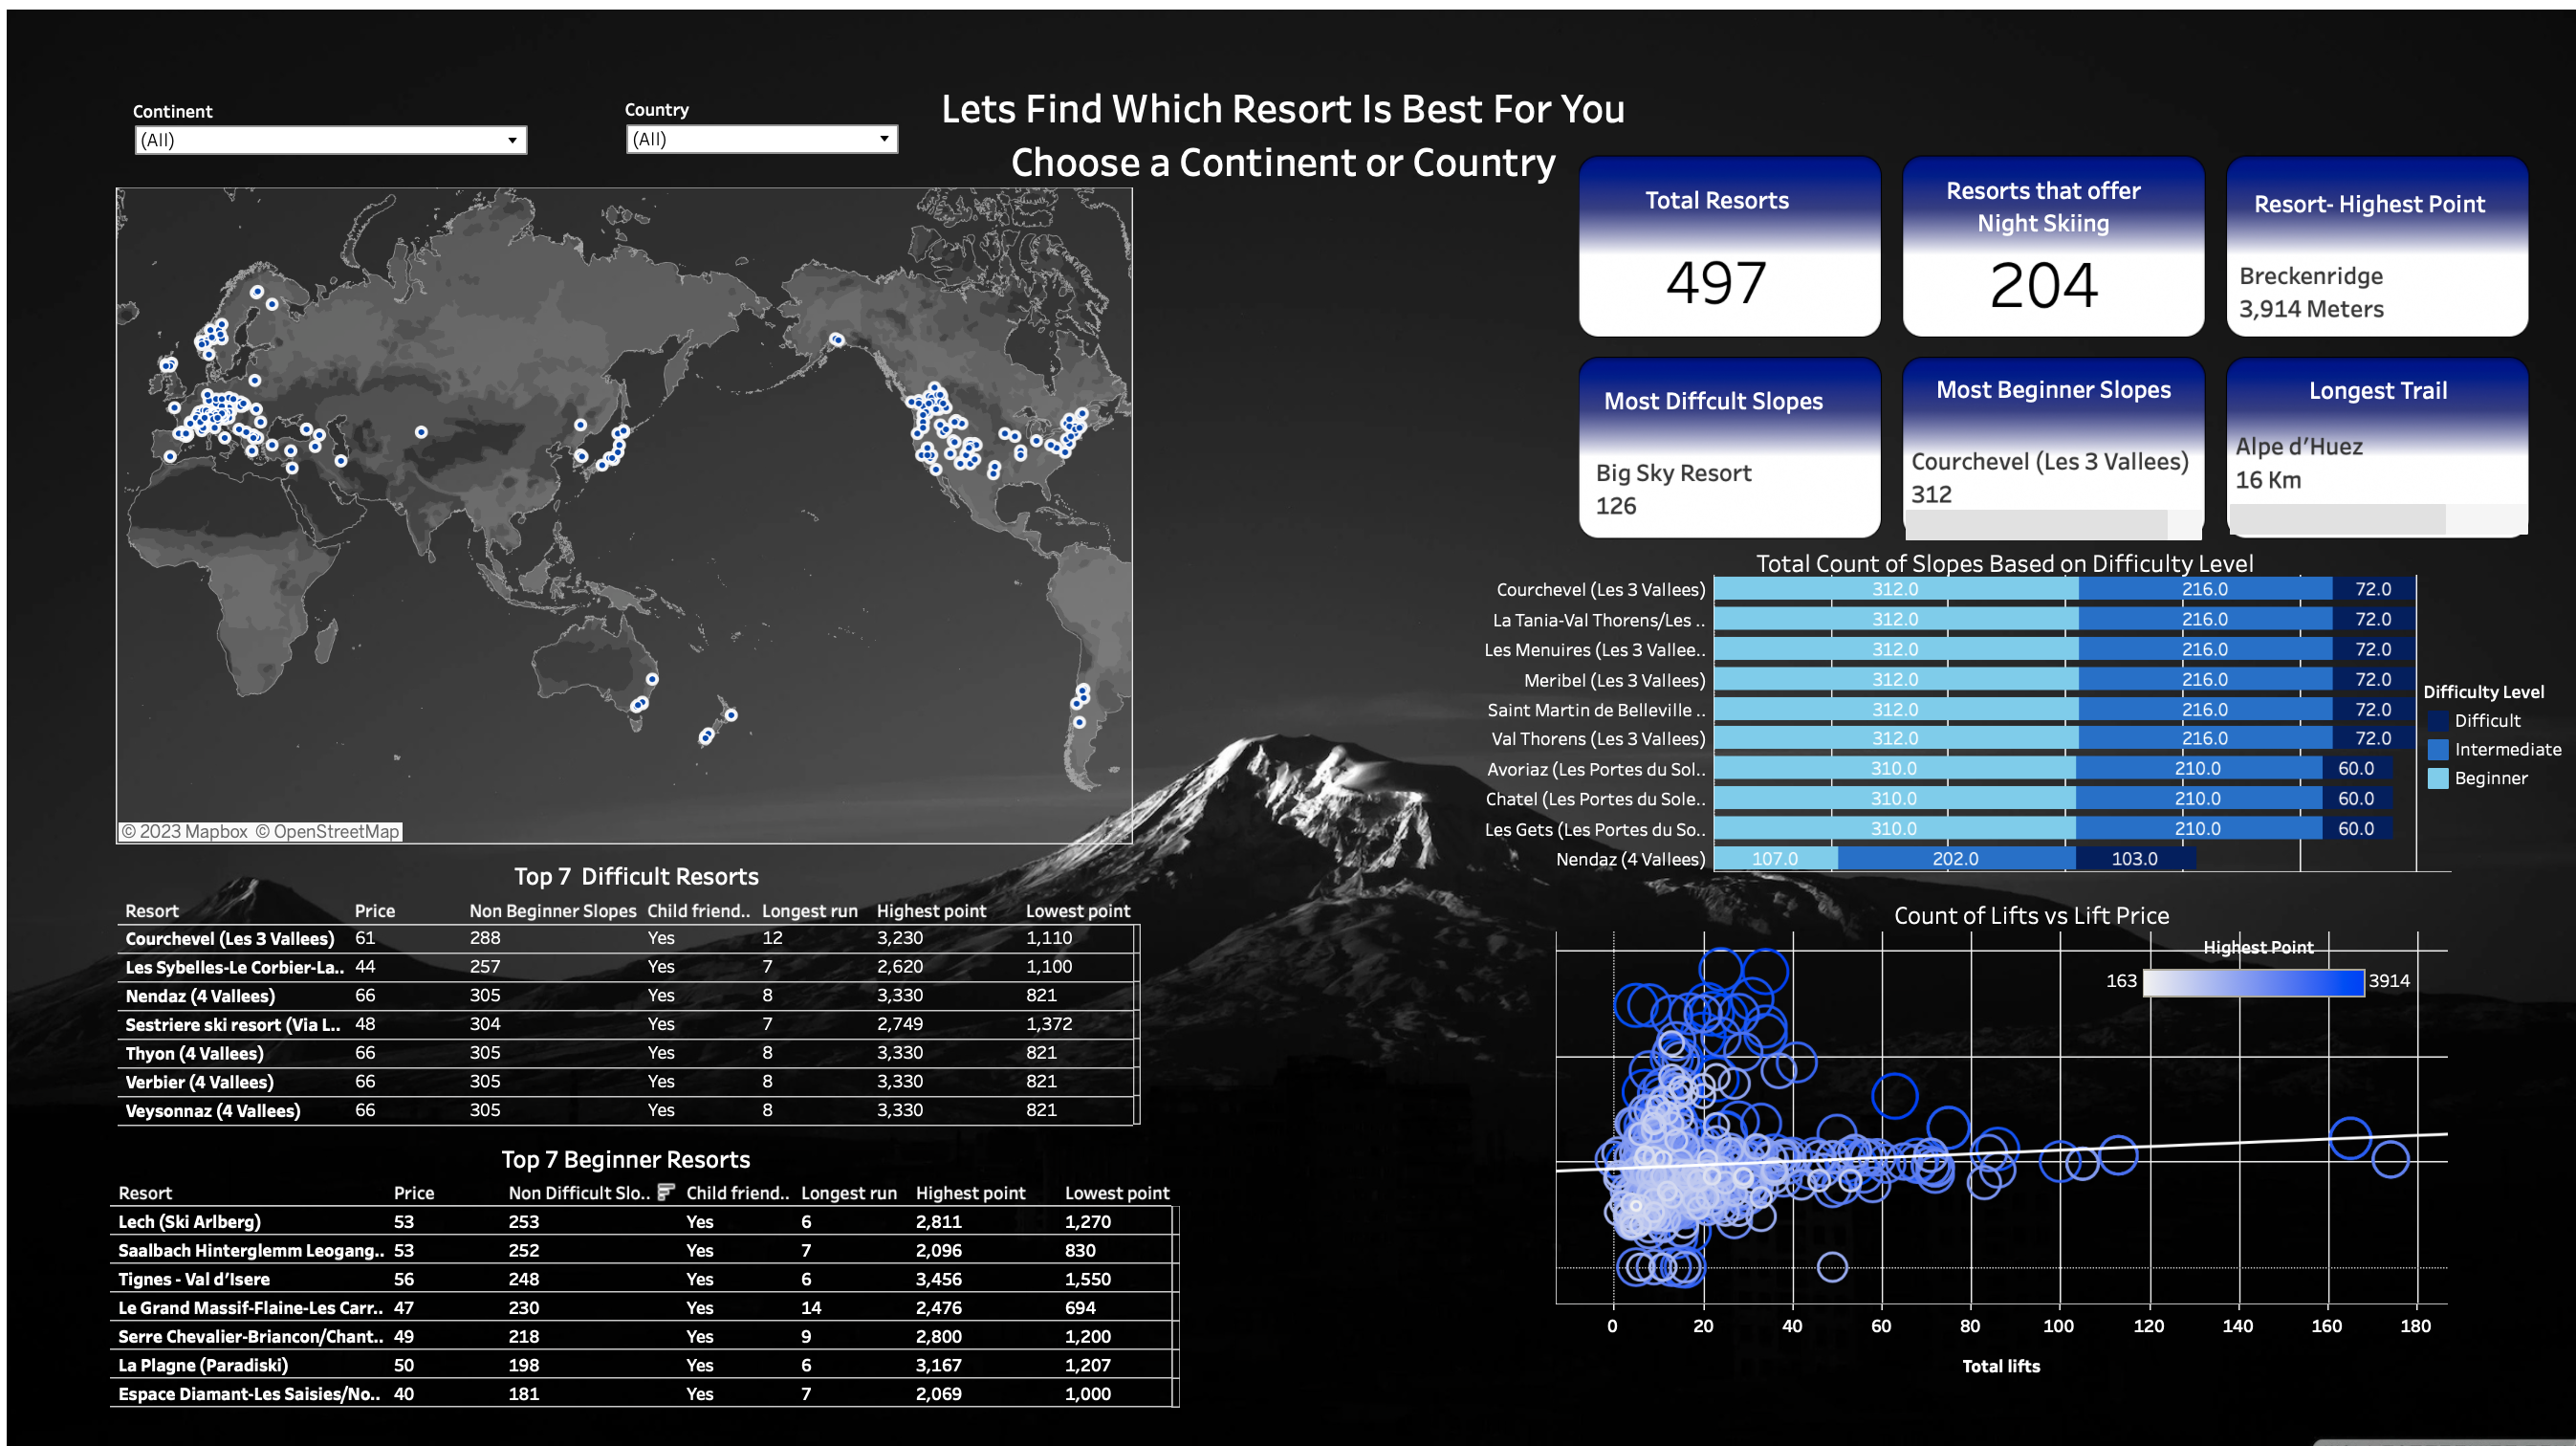

What the dashboard file says about the page in this screenshot:
{"tool":"tableau","page":{"name":"Dashboard 3","canvas":[1000,1000],"units":"permille","ordinal":1},"visuals":[{"type":"image","param":"Image/Screenshot 2023-07-28 at 6.15.54 PM.png","box":[4.4,7.5,991.2,984.9]},{"type":"image","param":"Image/Group 1.png","box":[608.8,40.6,364.3,410.4]},{"type":"text","box":[253.8,50,484.1,110.4]},{"type":"filter","title":"Pick A Country Or Place","param":"[federated.0y1gqd40tp2rr4198u3ri05ivgjl].[none:Country:nk]","box":[243.4,81.1,105.5,57.6]},{"type":"filter","title":"Pick A Country Or Place","param":"[federated.0y1gqd40tp2rr4198u3ri05ivgjl].[none:Continent:nk]","box":[55,82.1,151.7,44.3]},{"type":"worksheet","title":"Resorts that offer Night Skiing","mark":"Automatic","box":[746.1,125.5,113.2,113.2]},{"type":"worksheet","title":"Total Resorts","mark":"Automatic","box":[626.9,132.1,107.1,108.5]},{"type":"worksheet","title":"Resort with the Highest Point","mark":"Automatic","box":[859.9,134.9,112.6,118.9]},{"type":"worksheet","title":"Pick A Country Or Place","mark":"Automatic","rows":["Latitude"],"cols":["Longitude"],"box":[48.4,140.6,389.6,432.1]},{"type":"worksheet","title":"Resort with the Most Beginner Slopes","mark":"Automatic","box":[734.1,256.6,113.7,118.9]},{"type":"worksheet","title":"Longest Trail","mark":"Automatic","box":[858.2,257.6,114.3,115.1]},{"type":"worksheet","title":"Resort with the Most Difficult Slopes","mark":"Automatic","box":[613.2,264.1,109.3,105.7]},{"type":"text","box":[676.9,373.6,194.5,28.3]},{"type":"worksheet","title":"top 10 Resorts categorized by difficulty level","mark":"Bar","rows":["Resort"],"box":[572.5,395.3,370.9,197.2]},{"type":"legend","title":"top 10 Resorts categorized by difficulty level","param":"[federated.0y1gqd40tp2rr4198u3ri05ivgjl].[:Measure Names]","box":[932.4,464.2,61,88.7]},{"type":"text","box":[201.1,579.2,101.1,28.3]},{"type":"text","box":[729.7,603.8,108.8,30.2]},{"type":"worksheet","title":"Difficult Resorts","mark":"Automatic","rows":["Resort","Price","Calculation_152629859782352897","Child friendly","Longest run","Highest point","Lowest point"],"box":[48.9,605.7,401.7,158.5]},{"type":"worksheet","title":"Count of Lifts vs Lift Price","mark":"Automatic","rows":["Price"],"cols":["Total lifts"],"box":[600,630.2,341.8,298.1]},{"type":"legend","title":"Count of Lifts vs Lift Price","param":"[federated.0y1gqd40tp2rr4198u3ri05ivgjl].[none:Highest point:qk]","box":[808.8,632.1,121.4,53.8]},{"type":"text","box":[196.2,767.9,114.3,22.6]},{"type":"worksheet","title":"Beginner Resorts","mark":"Automatic","rows":["Resort","Price","Calculation_152629859749040128","Child friendly","Longest run","Highest point","Lowest point"],"box":[46.1,791.5,426.4,170.8]}]}

Visuals, with their boxes on the dashboard's canvas, which has no fixed pixel size, in thousandths of its width and height (x1, y1, x2, y2). These are canvas units, not pixel positions in the 2576x1446 screenshot, which may show the page scaled, cropped or inside an application window:
image: 4/8/996/992
image: 609/41/973/451
text: 254/50/738/160
"Pick A Country Or Place" filter: 243/81/349/139
"Pick A Country Or Place" filter: 55/82/207/126
"Resorts that offer Night Skiing" worksheet: 746/126/859/239
"Total Resorts" worksheet: 627/132/734/241
"Resort with the Highest Point" worksheet: 860/135/972/254
"Pick A Country Or Place" worksheet: 48/141/438/573
"Resort with the Most Beginner Slopes" worksheet: 734/257/848/376
"Longest Trail" worksheet: 858/258/972/373
"Resort with the Most Difficult Slopes" worksheet: 613/264/722/370
text: 677/374/871/402
"top 10 Resorts categorized by difficulty level" worksheet (Bar marks): 572/395/943/592
"top 10 Resorts categorized by difficulty level" legend: 932/464/993/553
text: 201/579/302/608
text: 730/604/838/634
"Difficult Resorts" worksheet: 49/606/451/764
"Count of Lifts vs Lift Price" worksheet: 600/630/942/928
"Count of Lifts vs Lift Price" legend: 809/632/930/686
text: 196/768/310/790
"Beginner Resorts" worksheet: 46/792/472/962
